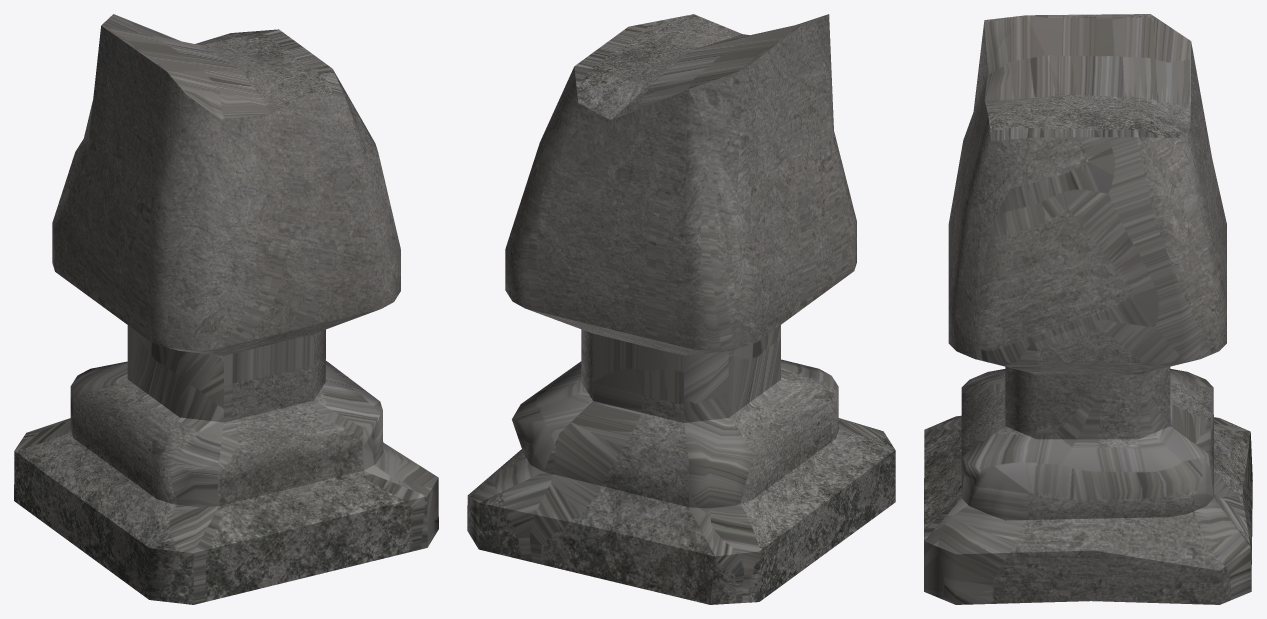
File: Pillar_Boss_7.fbx
3 views of the same model, side by side, from view 1: azimuth 30°, elevation 25°; view 2: azimuth 150°, elevation 25°; view 3: azimuth 270°, elevation 25° (orthographic). The views are drawn at different scales.
Parts seen in each view (by area): view 1: Pillar_Boss_7; view 2: Pillar_Boss_7; view 3: Pillar_Boss_7.
Part boxes in pixels (bbox=[...]): Pillar_Boss_7: bbox=[14, 14, 438, 604]; Pillar_Boss_7: bbox=[467, 14, 895, 604]; Pillar_Boss_7: bbox=[924, 14, 1252, 604].
Size of the model in its own units: 1.75 by 2.82 by 1.76.
Materials: 1 (1 with a texture image).
